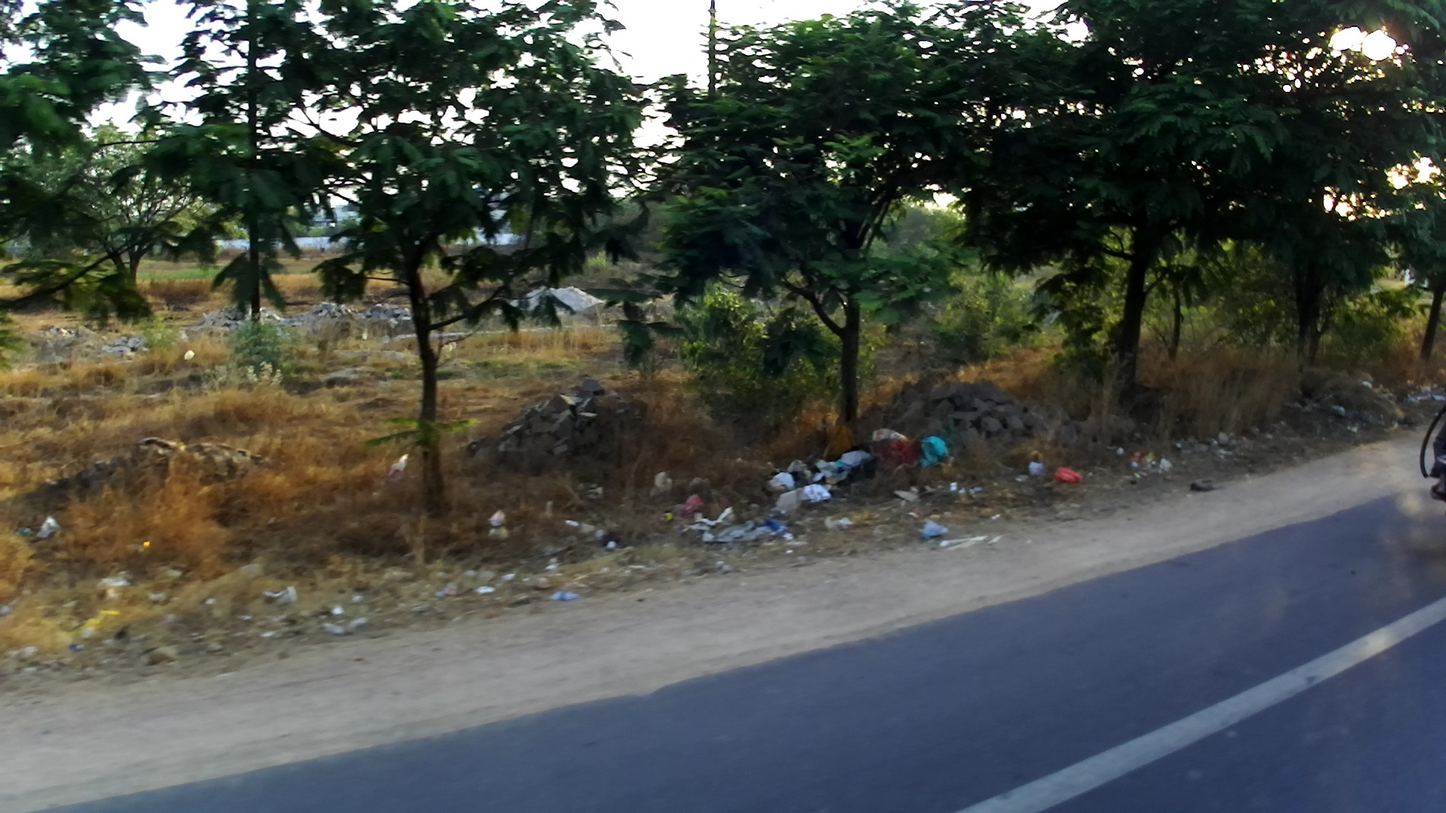vehicle fallback: (1411, 399, 1445, 512)
